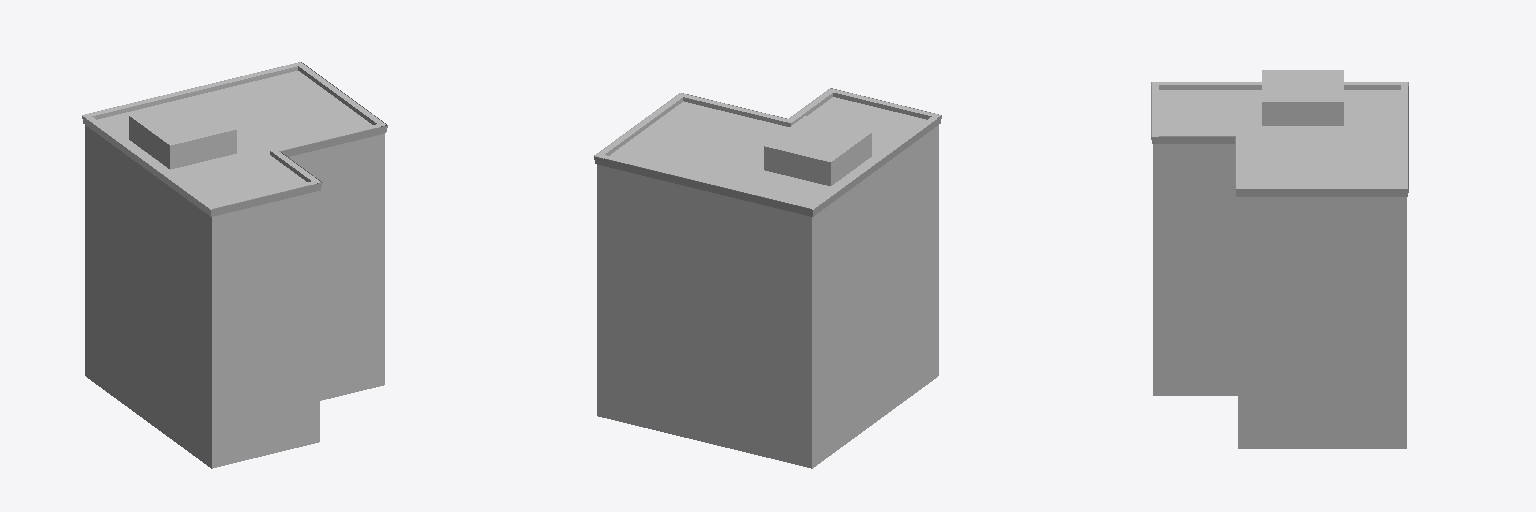
The model's file is building_25.obj.
3 views of the same model, side by side, from view 1: azimuth 30°, elevation 25°; view 2: azimuth 150°, elevation 25°; view 3: azimuth 270°, elevation 25° (orthographic).
Visible parts, largest first — view 1: BakedBuilding_322; view 2: BakedBuilding_322; view 3: BakedBuilding_322.
Boxes of the visible parts, <box> form: BakedBuilding_322: <box>82,62,387,468</box>; BakedBuilding_322: <box>594,88,941,468</box>; BakedBuilding_322: <box>1151,70,1408,448</box>.
Size of the model in its own units: 59.45 by 72.4 by 60.51.